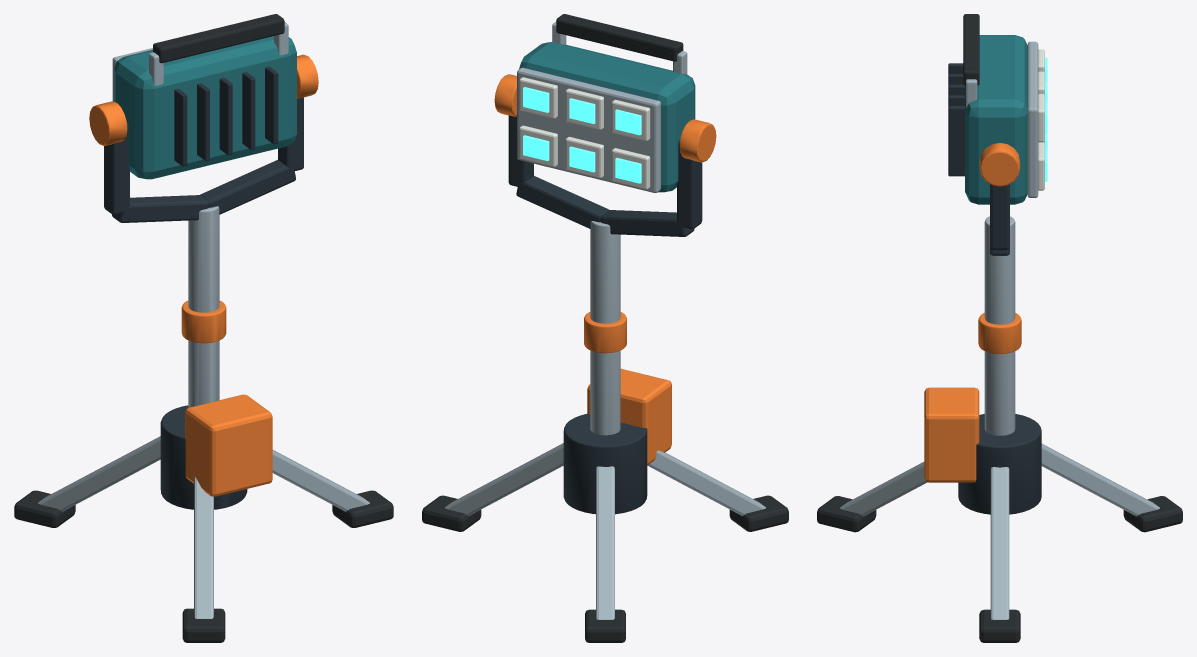
The model's file is folding_floodlight.glb.
3 views of the same model, side by side, from view 1: azimuth 30°, elevation 25°; view 2: azimuth 150°, elevation 25°; view 3: azimuth 270°, elevation 25° (orthographic). The views are drawn at different scales.
Visible parts, largest first — view 1: folding_floodlight_mesh, Light_head_mesh; view 2: folding_floodlight_mesh, Light_head_mesh; view 3: folding_floodlight_mesh, Light_head_mesh.
Part boxes in pixels (x1=…): folding_floodlight_mesh: x1=14, y1=54, x2=393, y2=642; Light_head_mesh: x1=112, y1=14, x2=296, y2=179; folding_floodlight_mesh: x1=422, y1=74, x2=788, y2=642; Light_head_mesh: x1=517, y1=14, x2=695, y2=192; folding_floodlight_mesh: x1=817, y1=143, x2=1182, y2=642; Light_head_mesh: x1=948, y1=14, x2=1047, y2=204.
Bounding box in the file's own units: 0.5033 × 0.902 × 0.5786.
